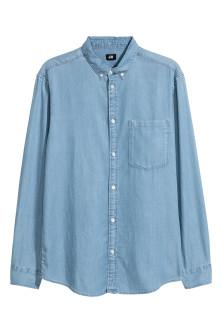teeshirt: (10, 35, 213, 297)
